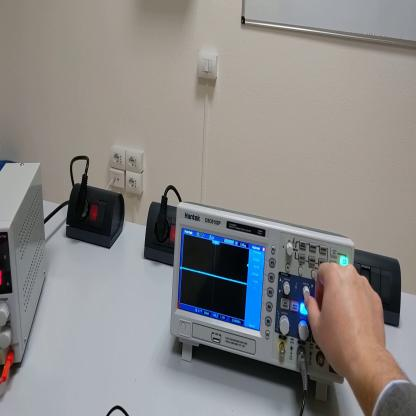hand: (305, 258, 390, 383)
oscilloscope: (170, 201, 356, 404)
power supply: (2, 163, 49, 367)
socket: (66, 186, 126, 251), (146, 201, 176, 267)
